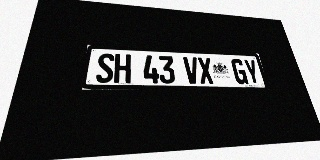3: (159, 56, 175, 84)
4: (143, 55, 159, 83)
G: (230, 59, 249, 84)
H: (114, 54, 131, 83)
S: (95, 53, 115, 83)
V: (183, 57, 200, 84)
X: (197, 57, 214, 84)
Y: (243, 59, 261, 84)
